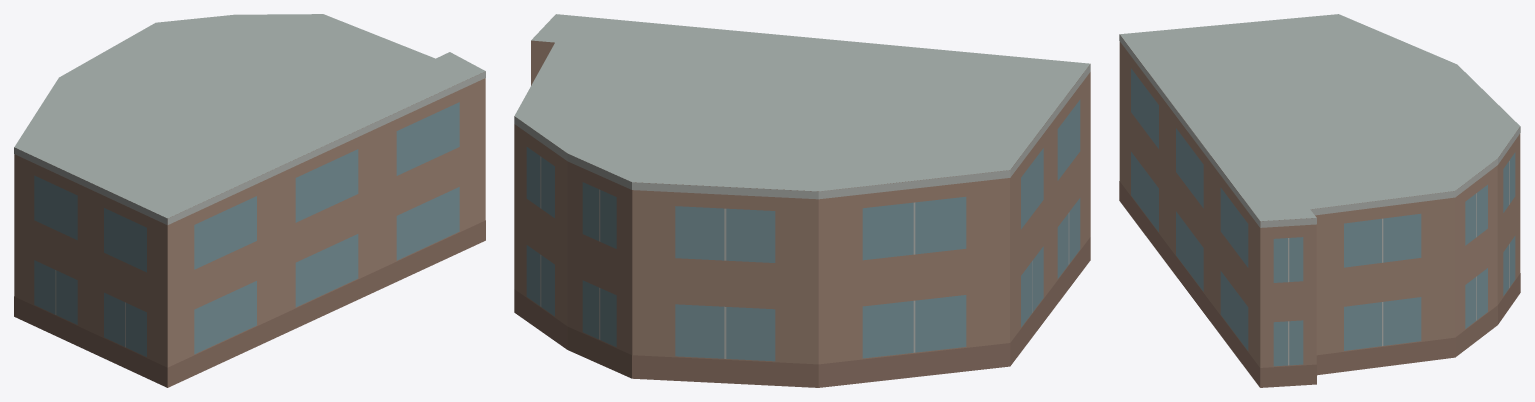
File: survey-upis-32908275.glb
3 renders of one model, left to right at view 1: azimuth 30°, elevation 25°; view 2: azimuth 150°, elevation 25°; view 3: azimuth 270°, elevation 25°, orthographic. The views are drawn at different scales.
Parts seen in each view (by area): view 1: survey-upis-32908275.tmp; view 2: survey-upis-32908275.tmp; view 3: survey-upis-32908275.tmp.
Boxes of the visible parts, x1,y1,x2,y2 form: survey-upis-32908275.tmp: (14,14,485,387); survey-upis-32908275.tmp: (514,14,1090,387); survey-upis-32908275.tmp: (1119,14,1520,387).
Bounding box in the file's own units: 16.28 × 6.1 × 13.31.
